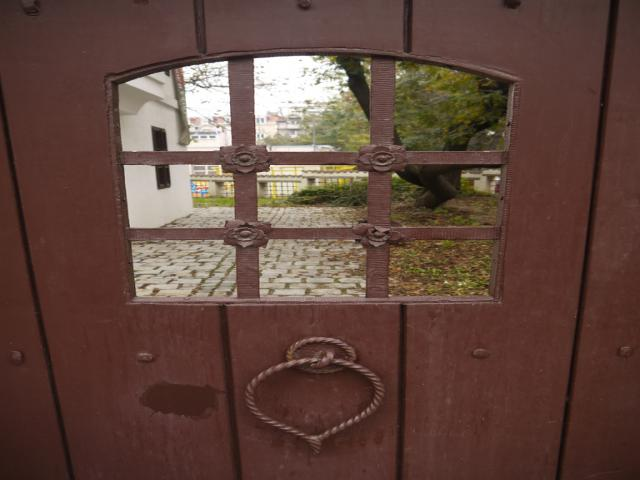Door-handle: (243, 336, 384, 452)
